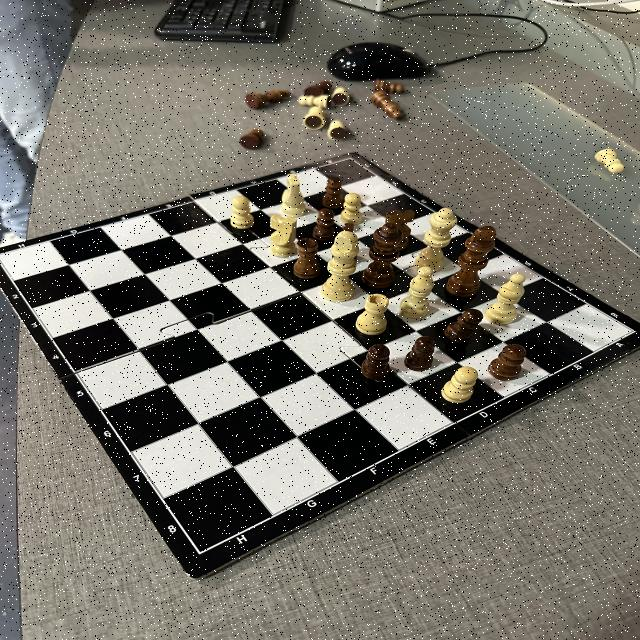Black-Bishop: (371, 91, 403, 121), (245, 90, 290, 110)
Black-King: (447, 226, 497, 297)
Black-Knight: (386, 210, 415, 250)
Black-Pawn: (488, 344, 526, 382), (444, 308, 482, 342), (404, 336, 436, 372), (360, 344, 390, 379), (312, 207, 334, 241), (322, 176, 342, 210), (240, 129, 264, 149), (375, 79, 406, 93)
Black-Queen: (362, 224, 404, 288)
Black-Rook: (292, 237, 322, 280), (304, 80, 332, 98)
White-Bishop: (485, 273, 525, 325), (399, 266, 434, 318)
White-King: (322, 231, 358, 302)
White-Knight: (269, 214, 295, 258), (278, 174, 304, 217)
White-Pawn: (441, 366, 478, 404), (230, 195, 254, 229), (594, 148, 624, 172), (341, 192, 361, 225), (299, 94, 329, 108), (306, 107, 324, 117), (328, 120, 344, 130), (331, 85, 346, 95)
White-Queen: (416, 208, 458, 272)
White-Rook: (355, 293, 389, 335)
